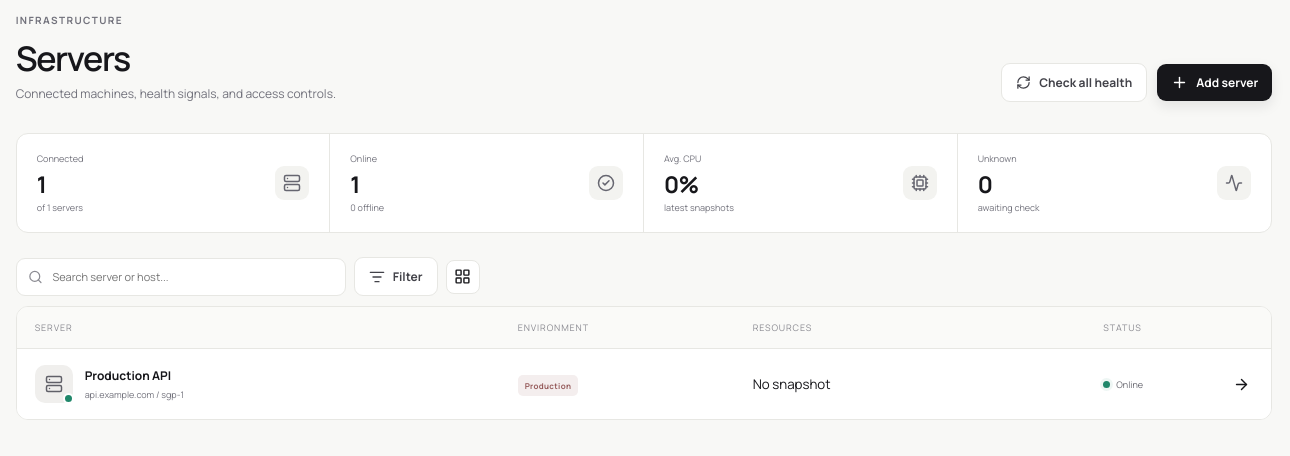
Test: server pages › offers backend server statuses as filters
This screenshot has width=1290, height=456.
Expected: the text "Production API" is shown, left=85, top=367, right=184, bottom=384
Click the button "Filter" at (396, 276), box left=354, top=257, right=438, bottom=296
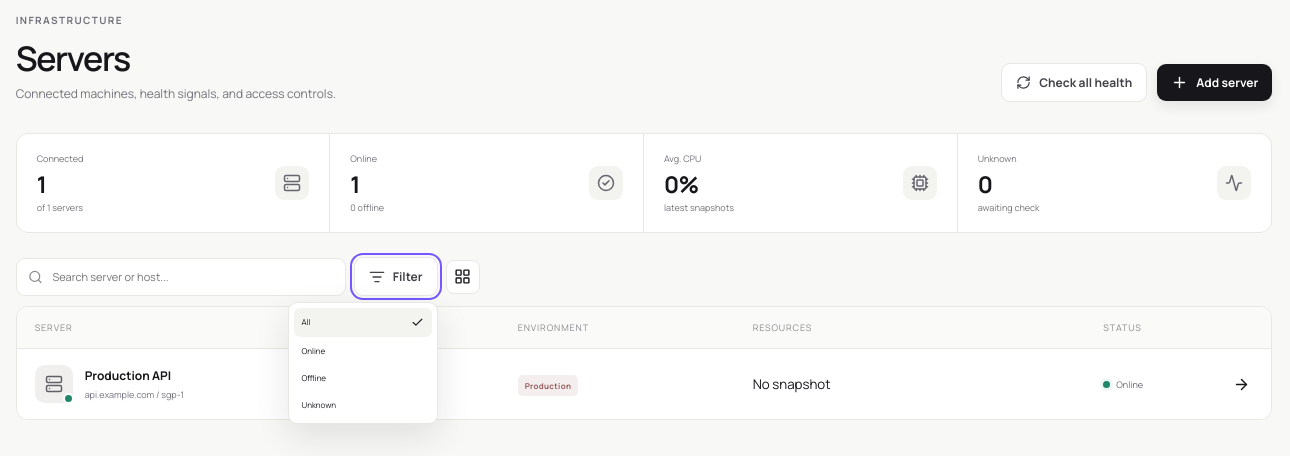
Result: the button "Online" is shown at left=294, top=337, right=432, bottom=364
Result: the button "Unknown" is shown at left=294, top=391, right=432, bottom=418
